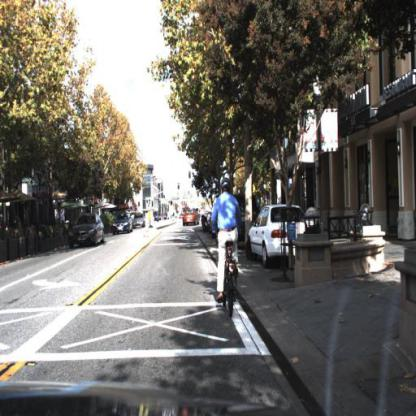biker: (211, 178, 240, 318)
car: (244, 198, 318, 269), (68, 208, 105, 253), (111, 208, 133, 237), (181, 206, 202, 231), (132, 210, 147, 229)
